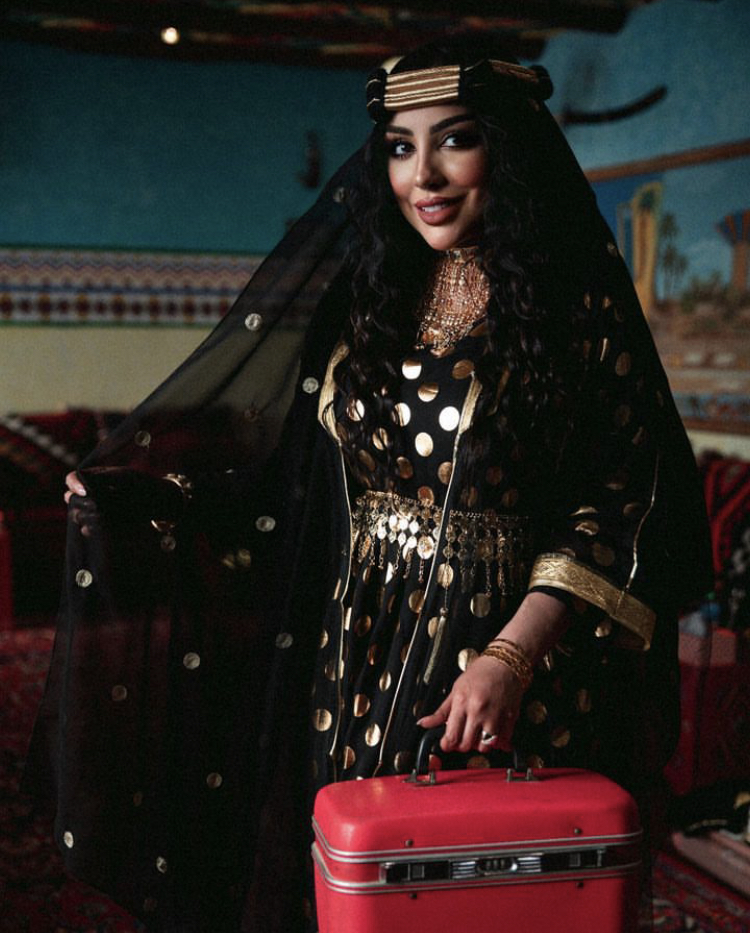Saudi_Founding_Day: (16, 44, 716, 932)
